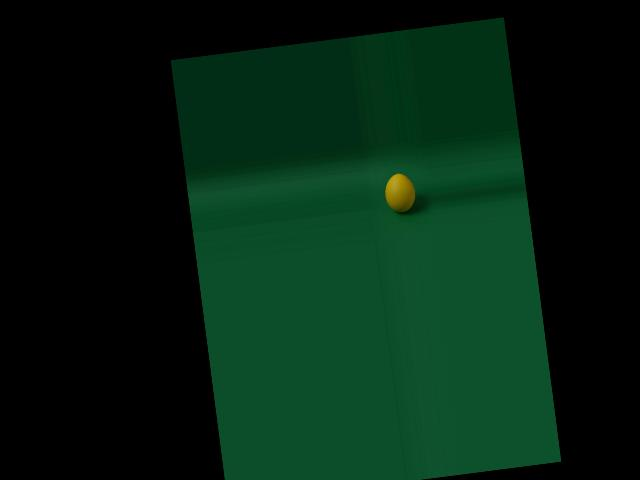egg: (382, 171, 416, 214)
